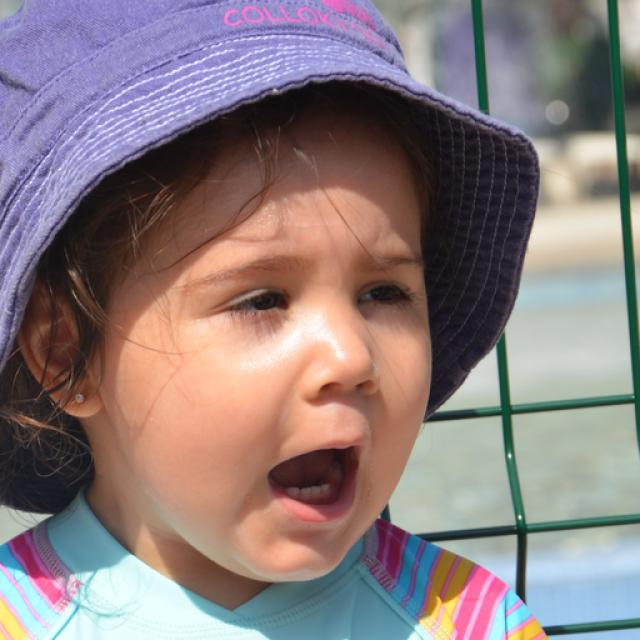sad: (102, 116, 432, 579)
